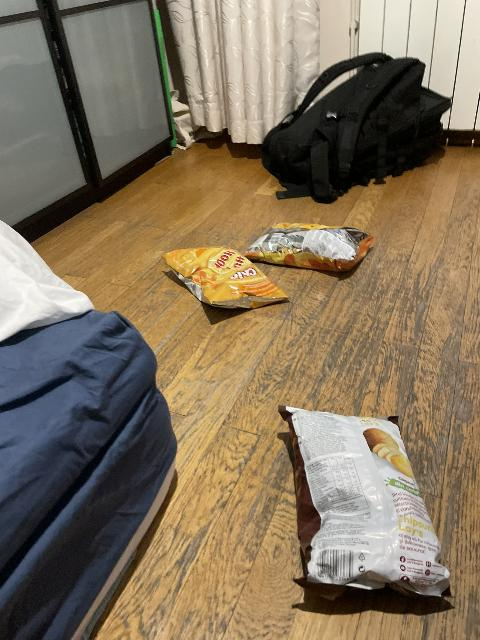Chio Cascaval 125g: (246, 222, 366, 272)
Chio Hula Hoops Cheese 70g: (161, 245, 289, 309)
Lays Beef Grilled Ribs 125g: (291, 410, 448, 602)
